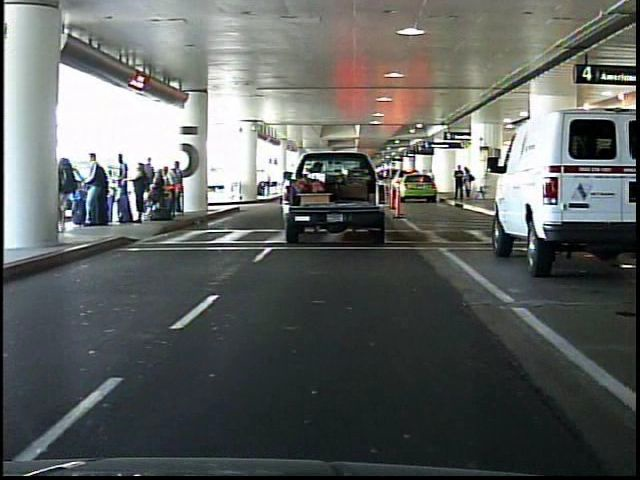person: (452, 165, 465, 202), (464, 165, 476, 203)
